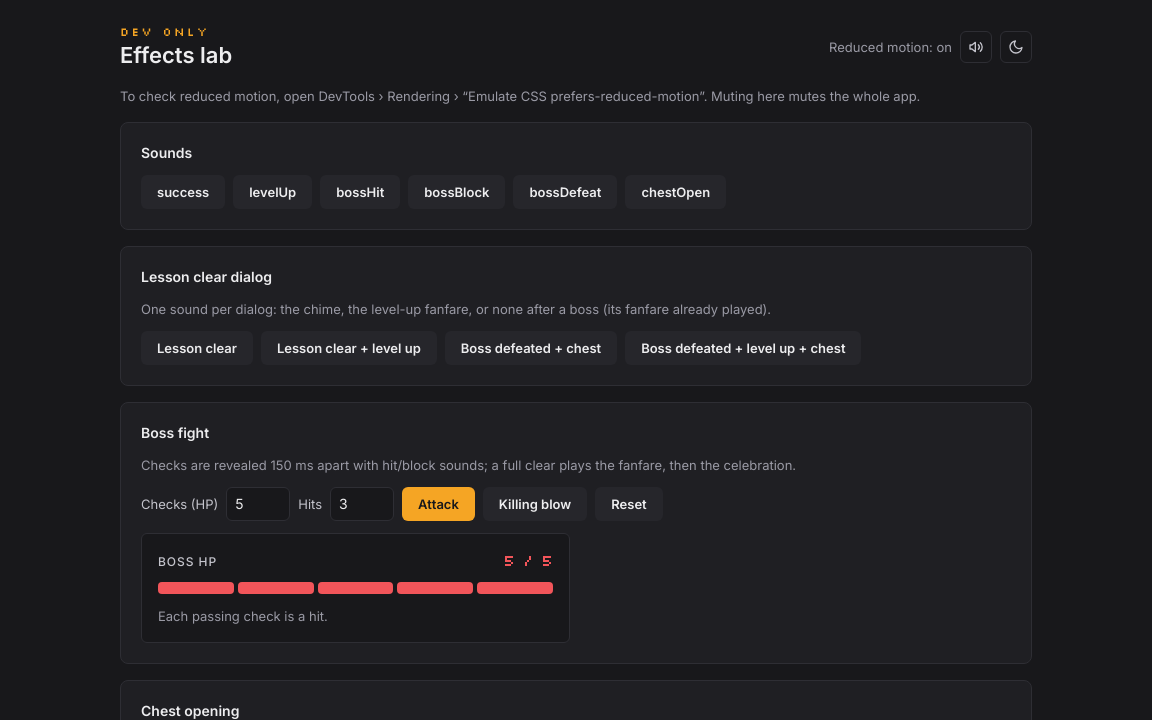
Test: EffectsLab (dev only) › opens each lesson-clear scenario
The width and height of the screenshot is (1152, 720).
What coordinates should you click on to do the following:
click the button "Boss defeated + level up + chest"
I would click on:
 (743, 348)
Its box is [625,331,862,365].
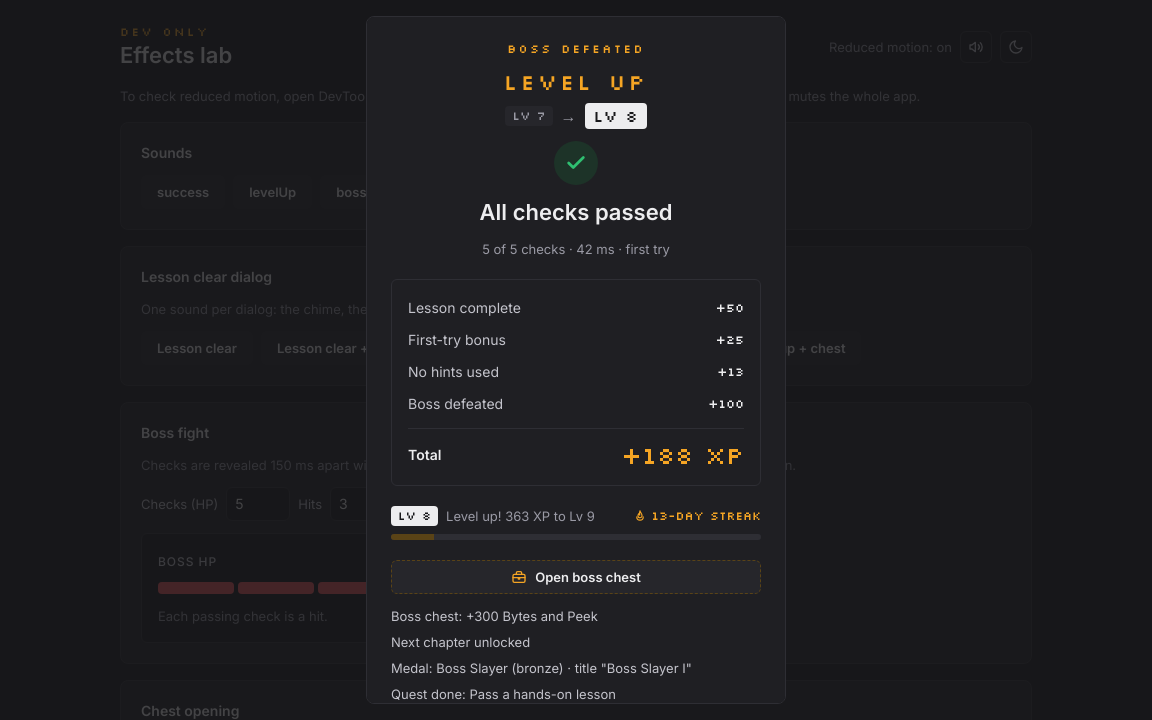
expect the dialog "All checks passed" shows "BOSS DEFEATED": met, box [507,41,645,56]
expect the dialog "All checks passed" shows "LEVEL UP": met, box [504,67,648,96]
What coordinates should you click on to do the following:
click the button "Open boss chest"
I would click on:
 (576, 577)
Its box is [391,560,761,594].
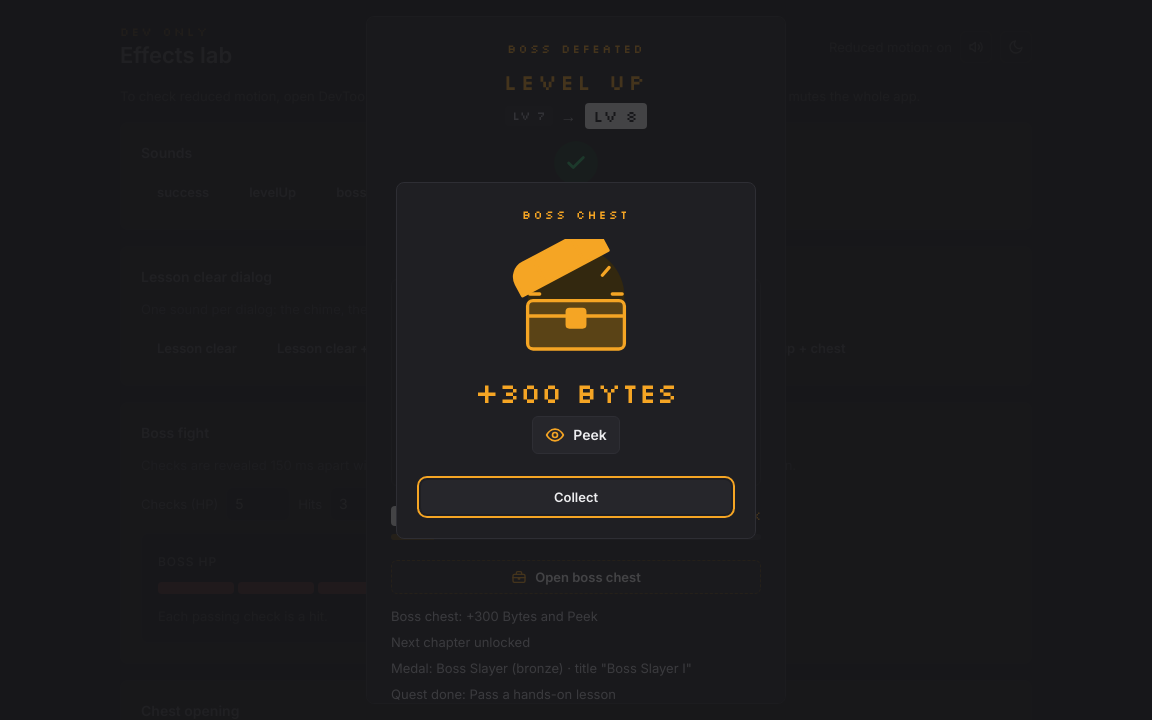
expect the dialog "BOSS CHEST" shows "+300 Bytes": met, box [396,182,756,538]
